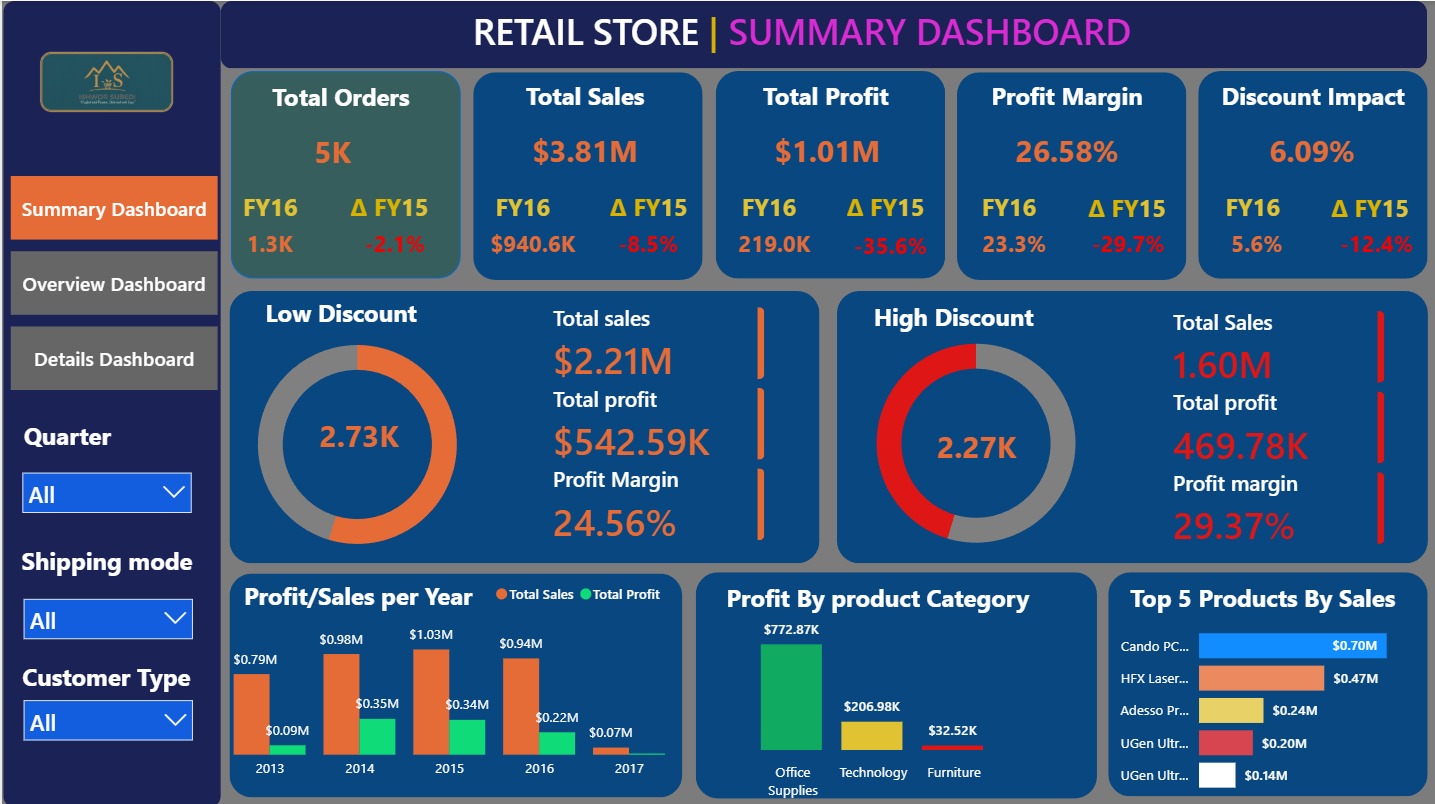

This screenshot's page, from the dashboard's own definition file:
{"tool":"powerbi","page":{"name":"Summary Dashboard","canvas":[1280,720],"ordinal":0},"visuals":[{"type":"shape","box":[195.4,0,1077.5,60.3],"z":0},{"type":"slicer","fields":{"Values":["Date.Quarter"]},"box":[8.1,411.5,171.8,63.1],"z":0,"group":"g1"},{"type":"slicer","fields":{"Values":["retail_data.Ship_Mode"]},"box":[8.6,523.7,171.8,63.1],"z":0,"group":"g2"},{"type":"slicer","fields":{"Values":["retail_data.Customer_Type"]},"box":[8.8,613.6,172,62.5],"z":0,"group":"g3"},{"type":"shape","box":[204.3,62.5,205.5,185.4],"z":1000},{"type":"textbox","box":[0,368.6,116.8,45.6],"z":1000,"group":"g1"},{"type":"textbox","box":[9.7,480.6,167.5,45.8],"z":1000,"group":"g2"},{"type":"textbox","box":[1,583.5,184.2,51.4],"z":1000,"group":"g3"},{"type":"shape","box":[1.1,0,194.3,720.2],"z":2000},{"type":"textbox","box":[355.1,0,719.1,72.6],"z":3000},{"type":"shape","box":[421.1,63.3,205,185.6],"z":4000},{"type":"card","fields":{"Values":["retail_data.Total Orders"]},"box":[212.2,107,166.7,56.7],"z":5000},{"type":"card","fields":{"Values":["retail_data.Total Sales"]},"box":[437.2,107.4,166.3,55.8],"z":6000},{"type":"textbox","box":[202.3,65.7,201.2,45.3],"z":7000},{"type":"textbox","box":[419.9,65,202.1,46.9],"z":8000},{"type":"shape","box":[637.6,63,205,185.4],"z":9000},{"type":"shape","box":[853.3,63.3,205,185.6],"z":10000},{"type":"shape","box":[1068.9,62.9,205,185.6],"z":11000},{"type":"textbox","box":[194.2,164.7,84.9,45.3],"z":12000},{"type":"textbox","box":[276.7,164.7,132.6,45.3],"z":13000},{"type":"textbox","box":[520.9,164.7,101.2,45.3],"z":14000},{"type":"textbox","box":[732.2,164.4,107.8,45.6],"z":15000},{"type":"textbox","box":[948.9,165.1,100,44.4],"z":16000},{"type":"textbox","box":[1170,165.6,97.8,44.4],"z":17000},{"type":"textbox","box":[419.8,164.7,84.9,45.3],"z":18000},{"type":"textbox","box":[639.5,164.7,84.9,45.3],"z":19000},{"type":"textbox","box":[854.7,164.7,84.9,45.3],"z":20000},{"type":"textbox","box":[1072.1,164.7,84.9,45.3],"z":21000},{"type":"textbox","box":[635.4,64.8,201,46.9],"z":22000},{"type":"textbox","box":[850.9,64.8,201,46.9],"z":23000},{"type":"textbox","box":[1070.8,64.8,201,46.9],"z":24000},{"type":"card","fields":{"Values":["retail_data.Total Sales 2016"]},"box":[390.5,190.9,167.4,55.8],"z":25000},{"type":"card","fields":{"Values":["retail_data.Orders YTD"]},"box":[155.8,190.9,166.3,55.8],"z":26000},{"type":"card","fields":{"Values":["retail_data.YOY Orders %"]},"box":[267.8,191.1,166.7,55.6],"z":27000},{"type":"card","fields":{"Values":["retail_data.Sales diffrence%"]},"box":[495,190.2,165.9,57.2],"z":28000},{"type":"card","fields":{"Values":["retail_data.Total Profit"]},"box":[654.3,107.7,166,55.3],"z":29000},{"type":"card","fields":{"Values":["retail_data.Total Profit 2016"]},"box":[606.7,191.1,167.8,55.6],"z":30000},{"type":"card","fields":{"Values":["retail_data.profit diffrence%"]},"box":[711.3,192.1,165.3,55.8],"z":31000},{"type":"card","fields":{"Values":["retail_data.profit margindiffrence%"]},"box":[923.3,191.1,165.6,55.6],"z":32000},{"type":"card","fields":{"Values":["retail_data.Profit Margin %"]},"box":[868.9,107.5,165.6,55.6],"z":33000},{"type":"card","fields":{"Values":["retail_data.Discount Impact %"]},"box":[1087.8,107.5,165.6,55.6],"z":34000},{"type":"card","fields":{"Values":["retail_data.profit margin 2016"]},"box":[821.1,192.2,167.8,53.3],"z":35000},{"type":"card","fields":{"Values":["retail_data.Discount impact 2016"]},"box":[1037.8,192.2,167.8,53.3],"z":36000},{"type":"card","fields":{"Values":["retail_data.discount impact diffrence%"]},"box":[1178.9,191.1,97.8,55.6],"z":37000},{"type":"shape","box":[203.3,511.1,404.4,200],"z":38000},{"type":"clusteredColumnChart","fields":{"Category":["Date.Date.Variation.Date Hierarchy.Year"],"Y":["retail_data.Total Sales","retail_data.Total Profit"]},"box":[202.1,510.3,395.3,193.2],"z":39000},{"type":"shape","box":[203.3,258.9,527,243.3],"z":40000},{"type":"shape","box":[745.6,258.9,527.8,243.3],"z":41000},{"type":"shape","box":[619.7,510.3,358.4,202.1],"z":42000},{"type":"shape","box":[988.4,510.8,285.2,200.3],"z":43000},{"type":"donutChart","fields":{"Category":["retail_data.Discount_Category"],"Y":["retail_data.Total Orders"]},"box":[138.2,280.5,358.3,232.2],"z":44000},{"type":"card","fields":{"Values":["retail_data.low discount orders"]},"box":[236.2,360.9,167.2,57],"z":45000},{"type":"cardVisual","fields":{"Data":["retail_data.low Discount sales","retail_data.low Discount profit","retail_data.low Discount margin"]},"box":[461.7,257.4,237.5,244.1],"z":46000},{"type":"donutChart","fields":{"Category":["retail_data.Discount_Category"],"Y":["retail_data.Total Orders"]},"box":[691.2,279.3,358.2,232.2],"z":47000},{"type":"textbox","box":[201.7,258.7,201.7,45.1],"z":48000},{"type":"cardVisual","fields":{"Data":["retail_data.High discount Sales","retail_data.High Discount profit","retail_data.High Disocunt Profit margin"]},"box":[1014.9,260,237.5,244.1],"z":49000},{"type":"textbox","box":[749.6,262.7,201.7,45.1],"z":50000},{"type":"card","fields":{"Values":["retail_data.High discount orders"]},"box":[787,371,167.1,56.5],"z":51000},{"type":"textbox","box":[198.8,511.4,239,44.7],"z":52000},{"type":"textbox","box":[632.1,514,300.6,44.3],"z":53000},{"type":"clusteredColumnChart","fields":{"Category":["retail_data.Product_Category"],"Y":["retail_data.Total Profit"]},"box":[634.8,540.2,279.1,179.8],"z":54000},{"type":"clusteredBarChart","fields":{"Category":["retail_data.Product_Name"],"Y":["retail_data.Total Sales"]},"box":[981,540.8,299.3,179.8],"z":55000},{"type":"textbox","box":[975.6,514,300.6,44.3],"z":56000},{"type":"group","id":"g1","title":"Group 1","box":[0,368.6,179.8,106],"z":57000},{"type":"group","id":"g2","title":"Group 1","box":[8.6,480.6,171.8,106.2],"z":58000},{"type":"group","id":"g3","title":"Group 1","box":[1,583.5,184.2,92.7],"z":59000},{"type":"image","box":[1.1,4.5,184.2,135.1],"z":60000},{"type":"pageNavigator","box":[7.8,156.3,185.4,193.2],"z":61000}]}

Visuals, with their boxes in screenshot pixels (x1, y1, x2, y2), scaled from the page's 1280x720 canvas onto the 1435x804 screenshot:
shape: 219,0,1427,67
slicer - Date.Quarter: 9,460,202,530
slicer - retail_data.Ship_Mode: 10,585,202,655
slicer - retail_data.Customer_Type: 10,685,203,755
shape: 229,70,459,277
textbox: 0,412,131,463
textbox: 11,537,199,588
textbox: 1,652,208,709
shape: 1,0,219,803
textbox: 398,0,1204,81
shape: 472,71,702,278
card - retail_data.Total Orders: 238,119,425,183
card - retail_data.Total Sales: 490,120,677,182
textbox: 227,73,452,124
textbox: 471,73,697,125
shape: 715,70,945,277
shape: 957,71,1186,278
shape: 1198,70,1428,277
textbox: 218,184,313,234
textbox: 310,184,459,234
textbox: 584,184,697,234
textbox: 821,184,942,234
textbox: 1064,184,1176,234
textbox: 1312,185,1421,234
textbox: 471,184,566,234
textbox: 717,184,812,234
textbox: 958,184,1053,234
textbox: 1202,184,1297,234
textbox: 712,72,938,125
textbox: 954,72,1179,125
textbox: 1200,72,1426,125
card - retail_data.Total Sales 2016: 438,213,625,275
card - retail_data.Orders YTD: 175,213,361,275
card - retail_data.YOY Orders %: 300,213,487,275
card - retail_data.Sales diffrence%: 555,212,741,276
card - retail_data.Total Profit: 734,120,920,182
card - retail_data.Total Profit 2016: 680,213,868,275
card - retail_data.profit diffrence%: 797,215,983,277
card - retail_data.profit margindiffrence%: 1035,213,1221,275
card - retail_data.Profit Margin %: 974,120,1160,182
card - retail_data.Discount Impact %: 1220,120,1405,182
card - retail_data.profit margin 2016: 921,215,1109,274
card - retail_data.Discount impact 2016: 1163,215,1352,274
card - retail_data.discount impact diffrence%: 1322,213,1431,275
shape: 228,571,681,794
clusteredColumnChart - Date.Date.Variation.Date Hierarchy.Year x retail_data.Total Sales: 227,570,670,786
shape: 228,289,819,561
shape: 836,289,1428,561
shape: 695,570,1097,796
shape: 1108,570,1428,794
donutChart - retail_data.Discount_Category x retail_data.Total Orders: 155,313,557,573
card - retail_data.low discount orders: 265,403,452,467
cardVisual - retail_data.low Discount sales x retail_data.low Discount profit: 518,287,784,560
donutChart - retail_data.Discount_Category x retail_data.Total Orders: 775,312,1176,571
textbox: 226,289,452,339
cardVisual - retail_data.High discount Sales x retail_data.High Discount profit: 1138,290,1404,563
textbox: 840,293,1066,344
card - retail_data.High discount orders: 882,414,1070,477
textbox: 223,571,491,621
textbox: 709,574,1046,623
clusteredColumnChart - retail_data.Product_Category x retail_data.Total Profit: 712,603,1025,803
clusteredBarChart - retail_data.Product_Name x retail_data.Total Sales: 1100,604,1434,803
textbox: 1094,574,1431,623
"Group 1" group: 0,412,202,530
"Group 1" group: 10,537,202,655
"Group 1" group: 1,652,208,755
image: 1,5,208,156
pageNavigator: 9,175,217,390
